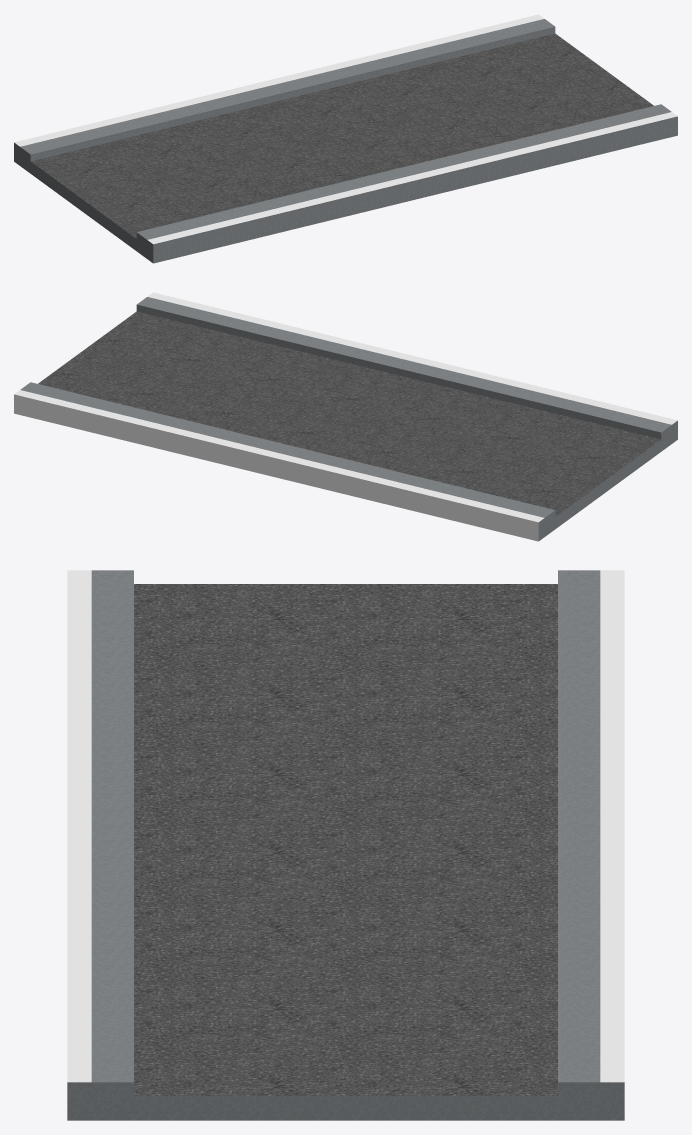
Rendered from RoadSurface20m.dae.
3 views of the same model, one above another, from view 1: azimuth 30°, elevation 25°; view 2: azimuth 150°, elevation 25°; view 3: azimuth 270°, elevation 25° (orthographic). The views are drawn at different scales.
Visible parts, largest first — view 1: SketchUp (×4); view 2: SketchUp (×4); view 3: SketchUp (×4).
Part boxes in pixels (<box>): SketchUp (×4): <box>14,14,677,263</box>; SketchUp (×4): <box>14,292,677,541</box>; SketchUp (×4): <box>67,570,624,1120</box>.
Bounding box in the file's own units: 787 × 362 × 27.56.
Materials: 3 (2 with a texture image).
